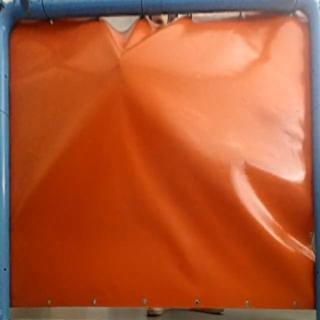Hit-hRxx: (112, 51, 130, 68)
